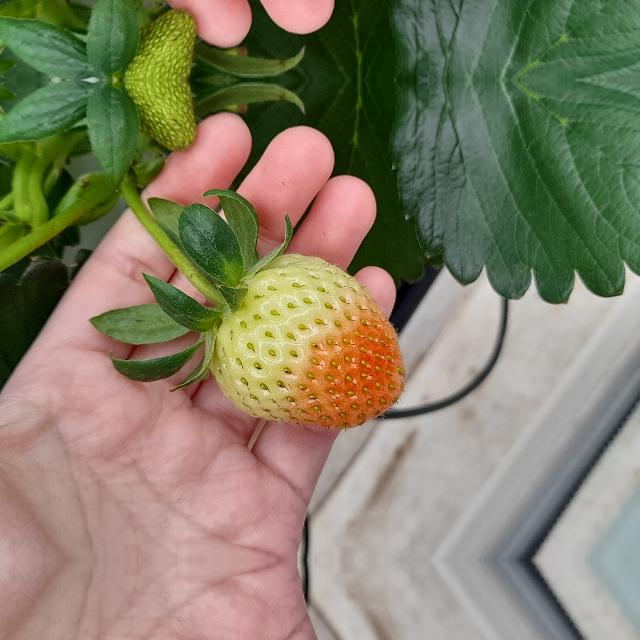Health_50: (208, 253, 404, 429)
